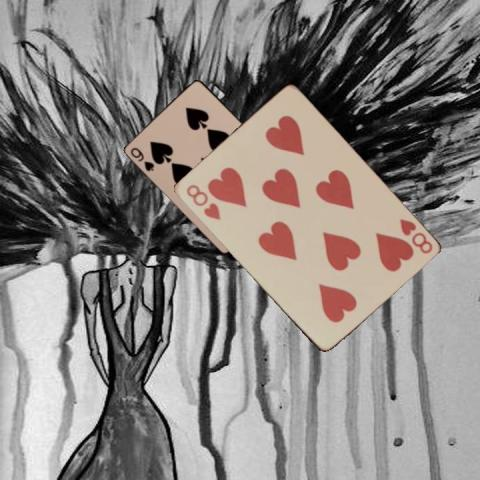8h: (183, 182, 222, 222), (395, 215, 434, 255)
9s: (128, 144, 156, 172)
